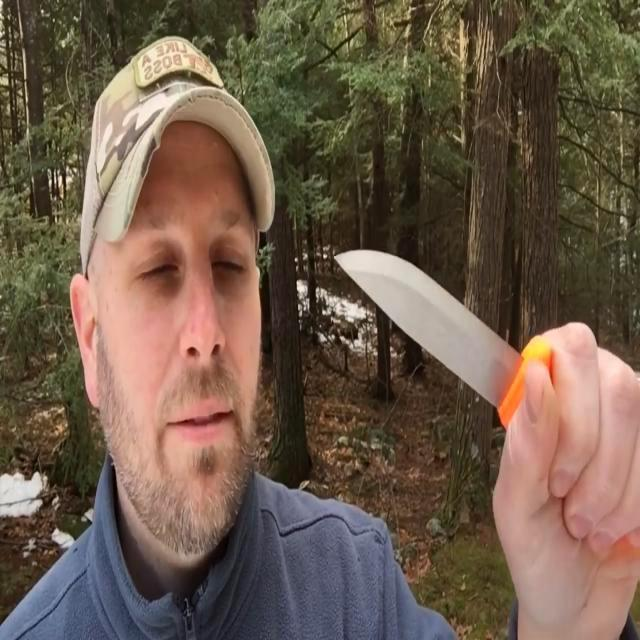Knife: (335, 250, 551, 427)
Knife_Handle: (313, 212, 640, 634)
